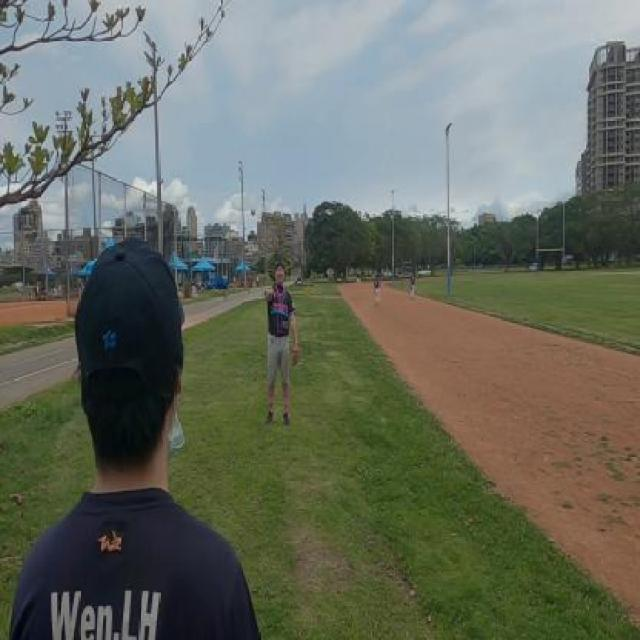baseball: (250, 207, 256, 216)
